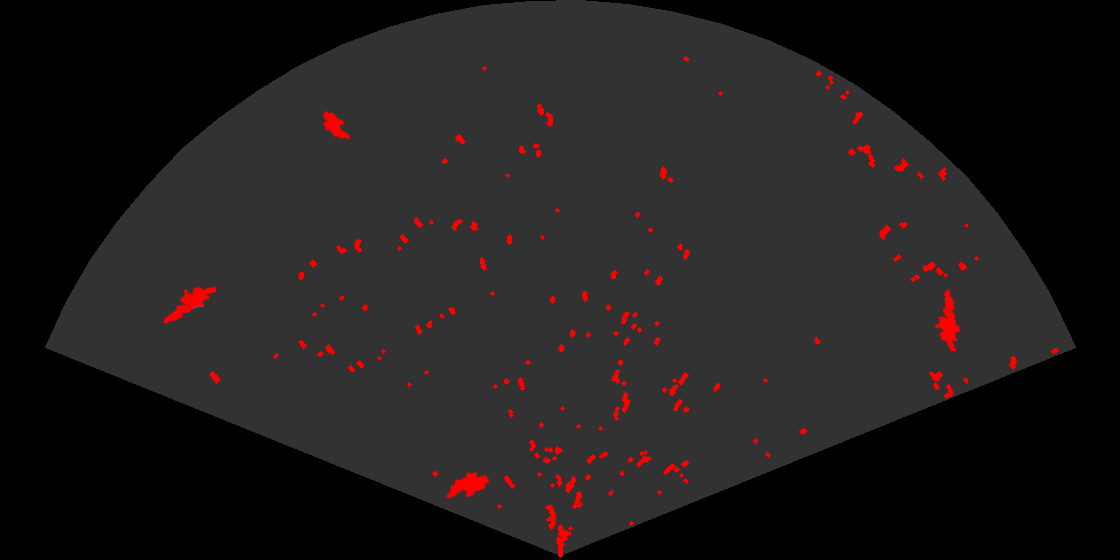AUV: (444, 470, 491, 500), (321, 109, 352, 141)
frogman: (161, 285, 216, 325), (933, 288, 962, 351)
